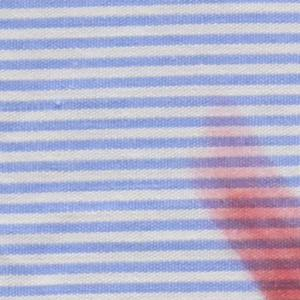Stain: (190, 99, 300, 300)
